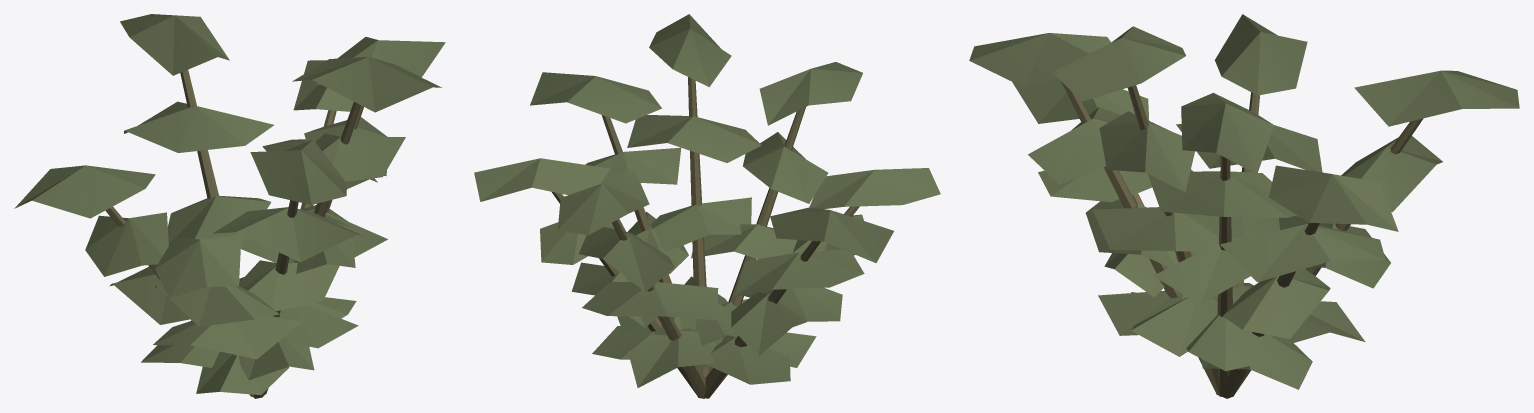
The model's file is taiga-bog-shrub.glb.
3 views of the same model, side by side, from view 1: azimuth 30°, elevation 25°; view 2: azimuth 150°, elevation 25°; view 3: azimuth 270°, elevation 25° (orthographic). The views are drawn at different scales.
Visible parts, largest first — view 1: Багульник болотный; view 2: Багульник болотный; view 3: Багульник болотный.
Boxes of the visible parts, x1,y1,x2,y2 form: Багульник болотный: [14, 14, 445, 398]; Багульник болотный: [474, 14, 940, 398]; Багульник болотный: [969, 14, 1519, 398].
Bounding box in the file's own units: 1.37 × 1.15 × 1.46.
